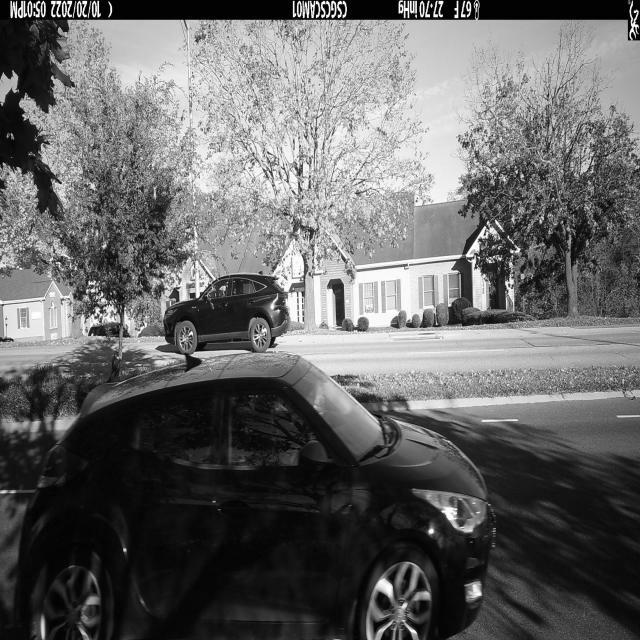Hatchback: (20, 351, 496, 640)
SUV: (163, 273, 290, 355)
